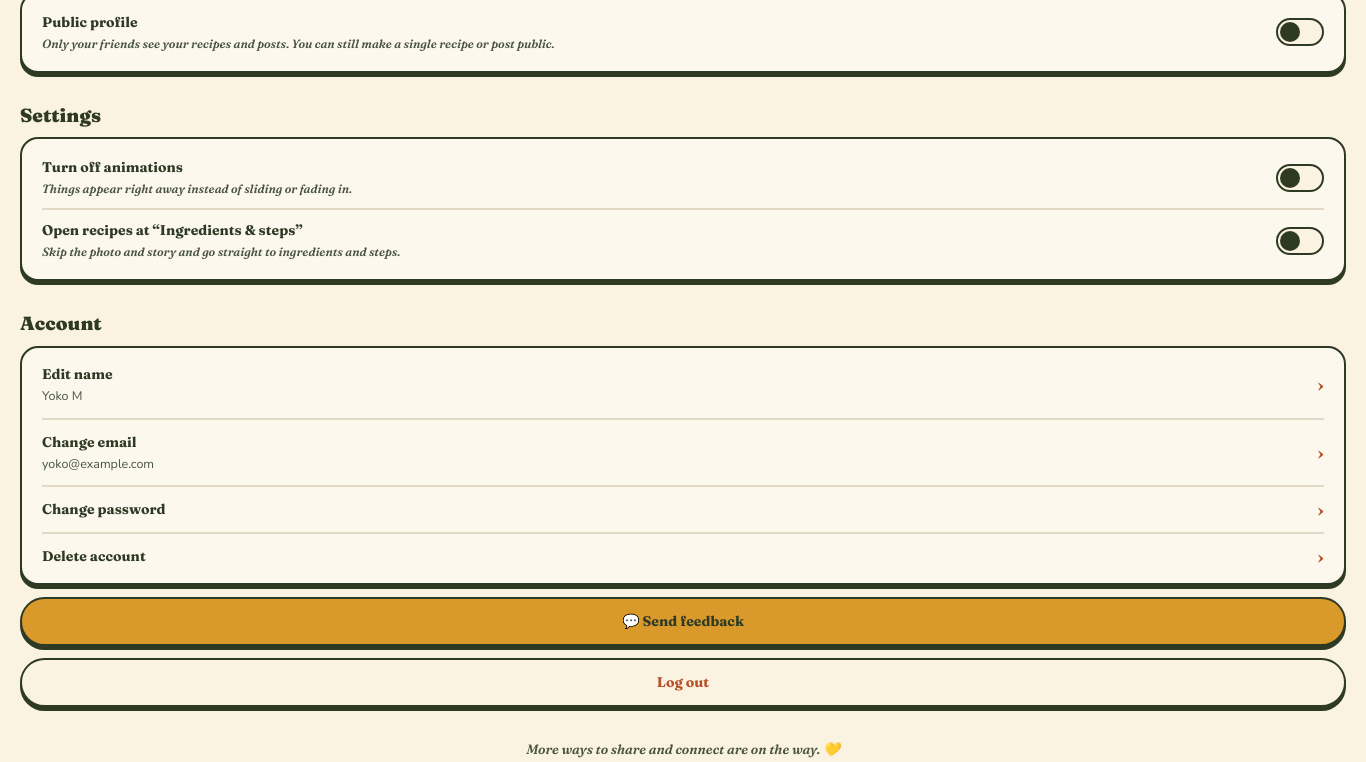
Profile account editing › saves a new name via PATCH /auth/me and refreshes the cached user
The image size is (1366, 762).
(page scrolled)
Click the button "Edit name Yoko M ›": (77, 374) [42,352,1324,418]
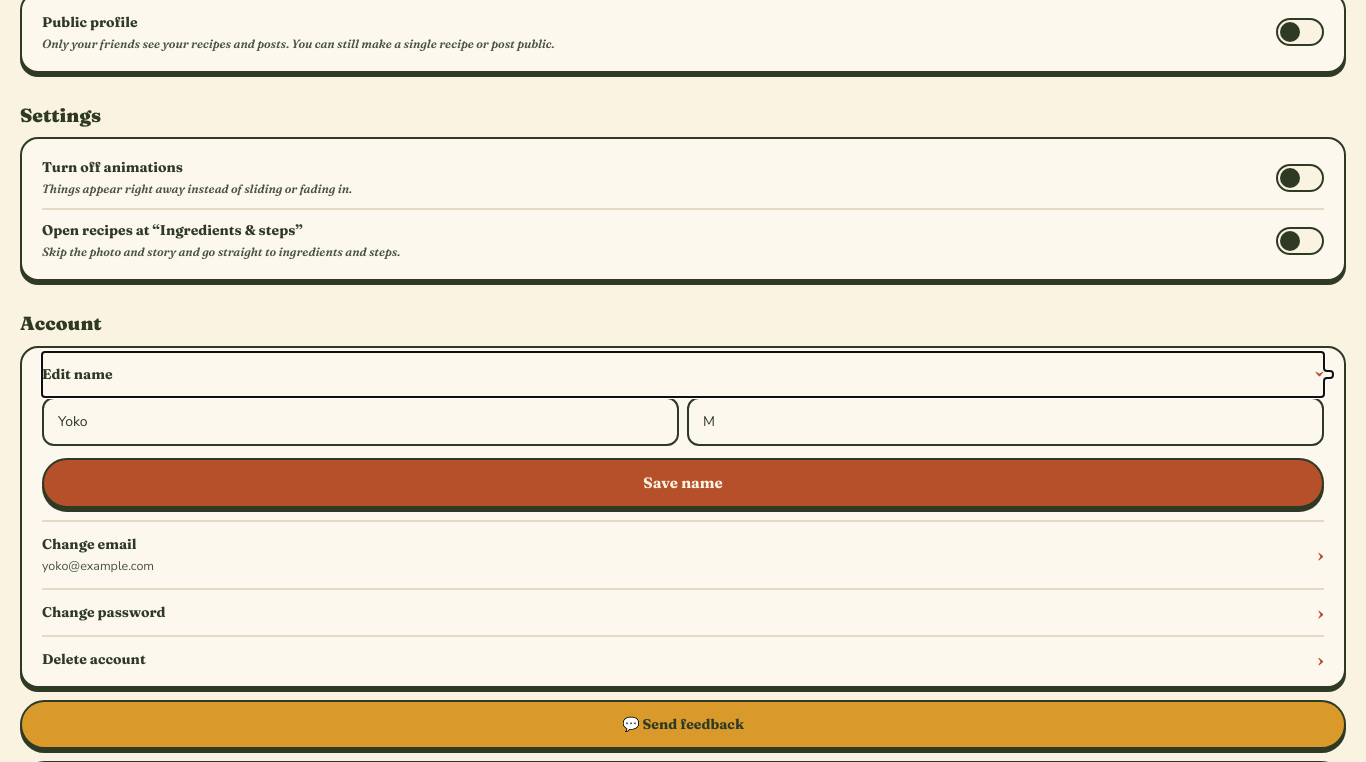
Replace the text in the field named "Last name" with "Ono": (1006, 421) [687,397,1324,446]
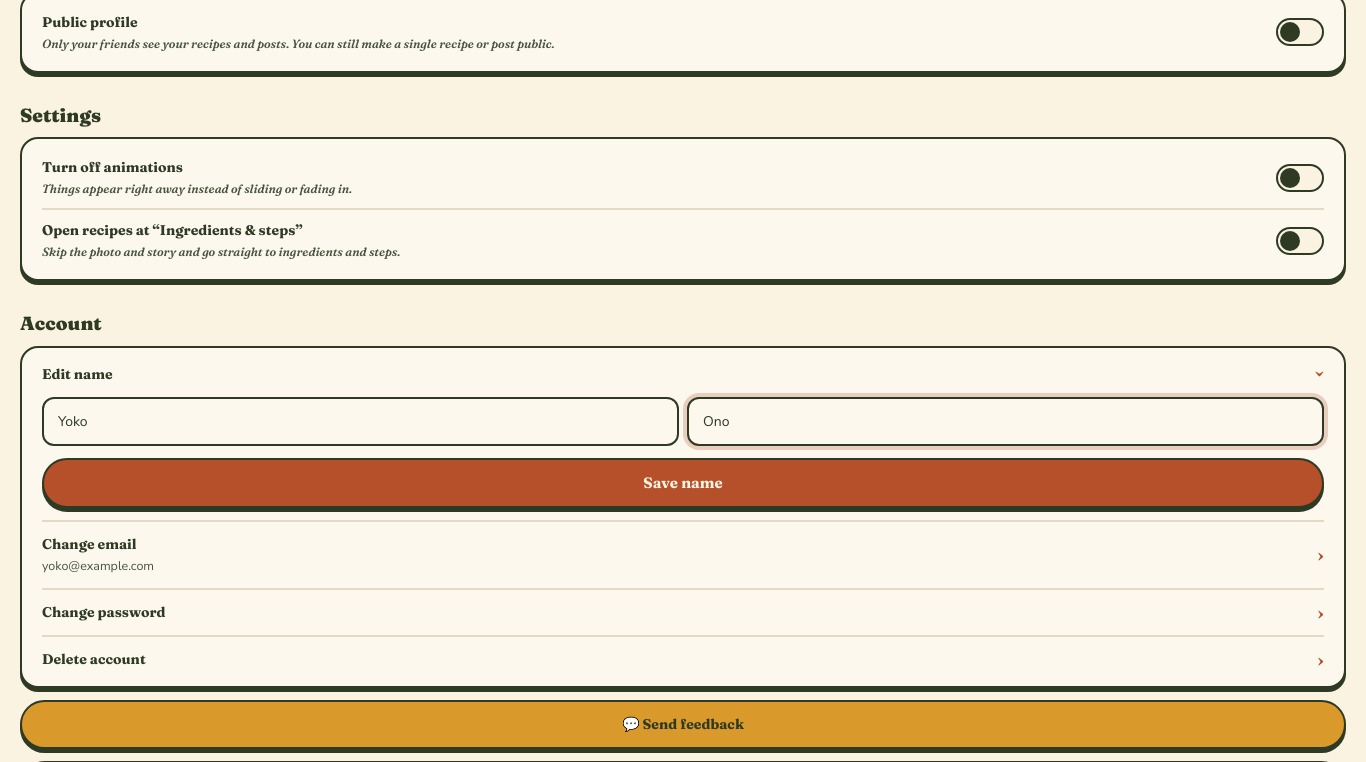
Click the button "Save name": (683, 483) [42,458,1324,508]
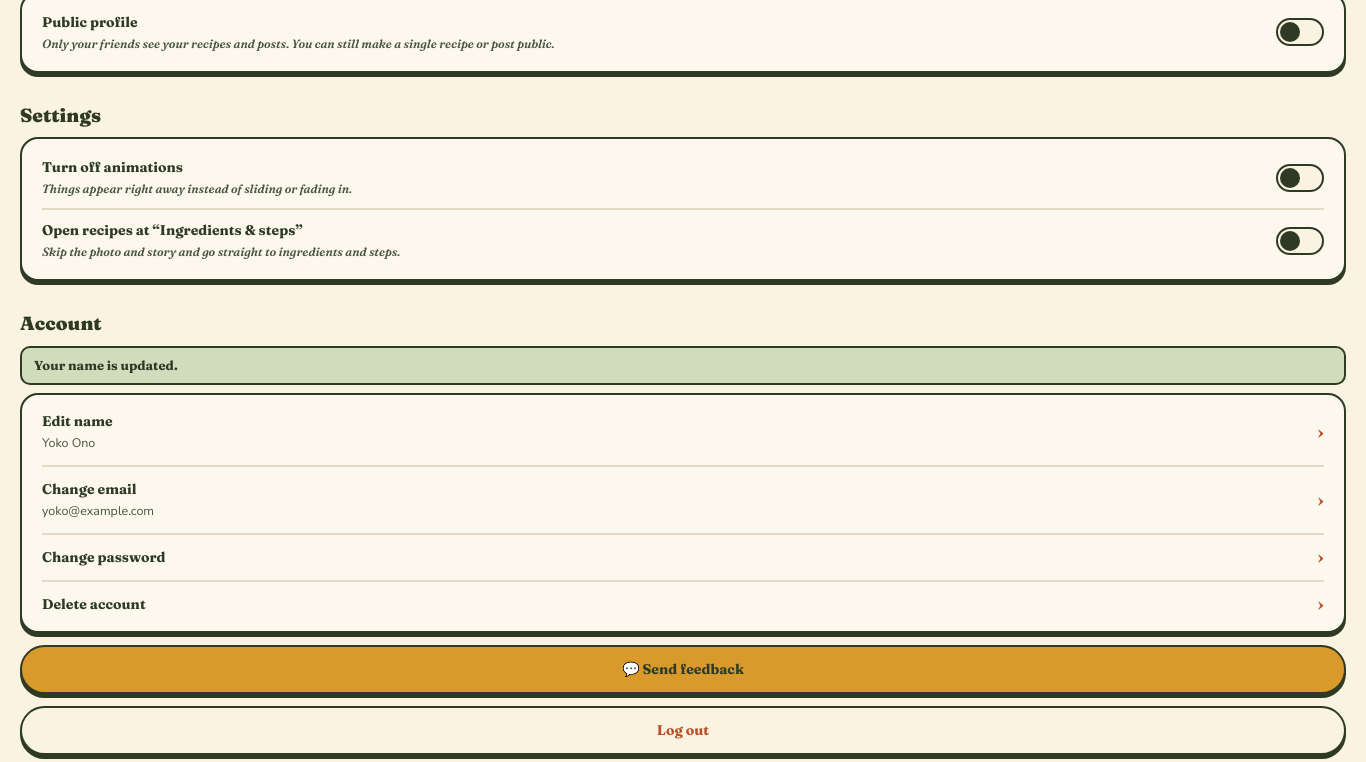
Check: the text "Your name is updated." is shown, box [20,346,1346,385]
